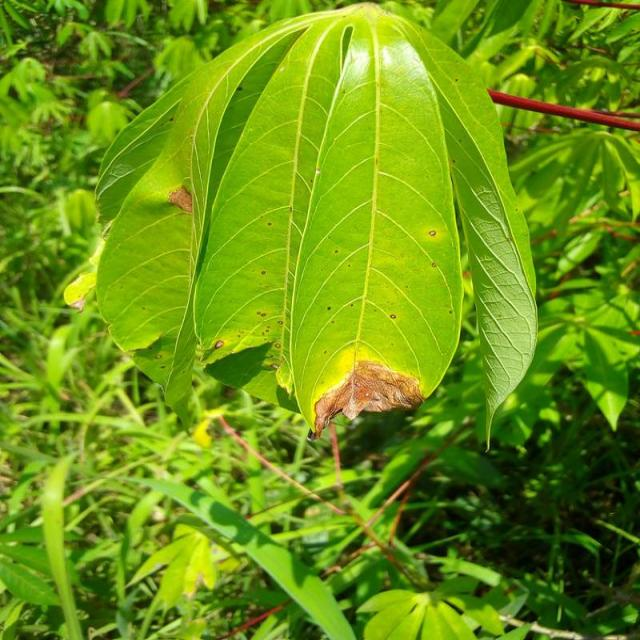cassava leaf: (76, 2, 538, 447)
